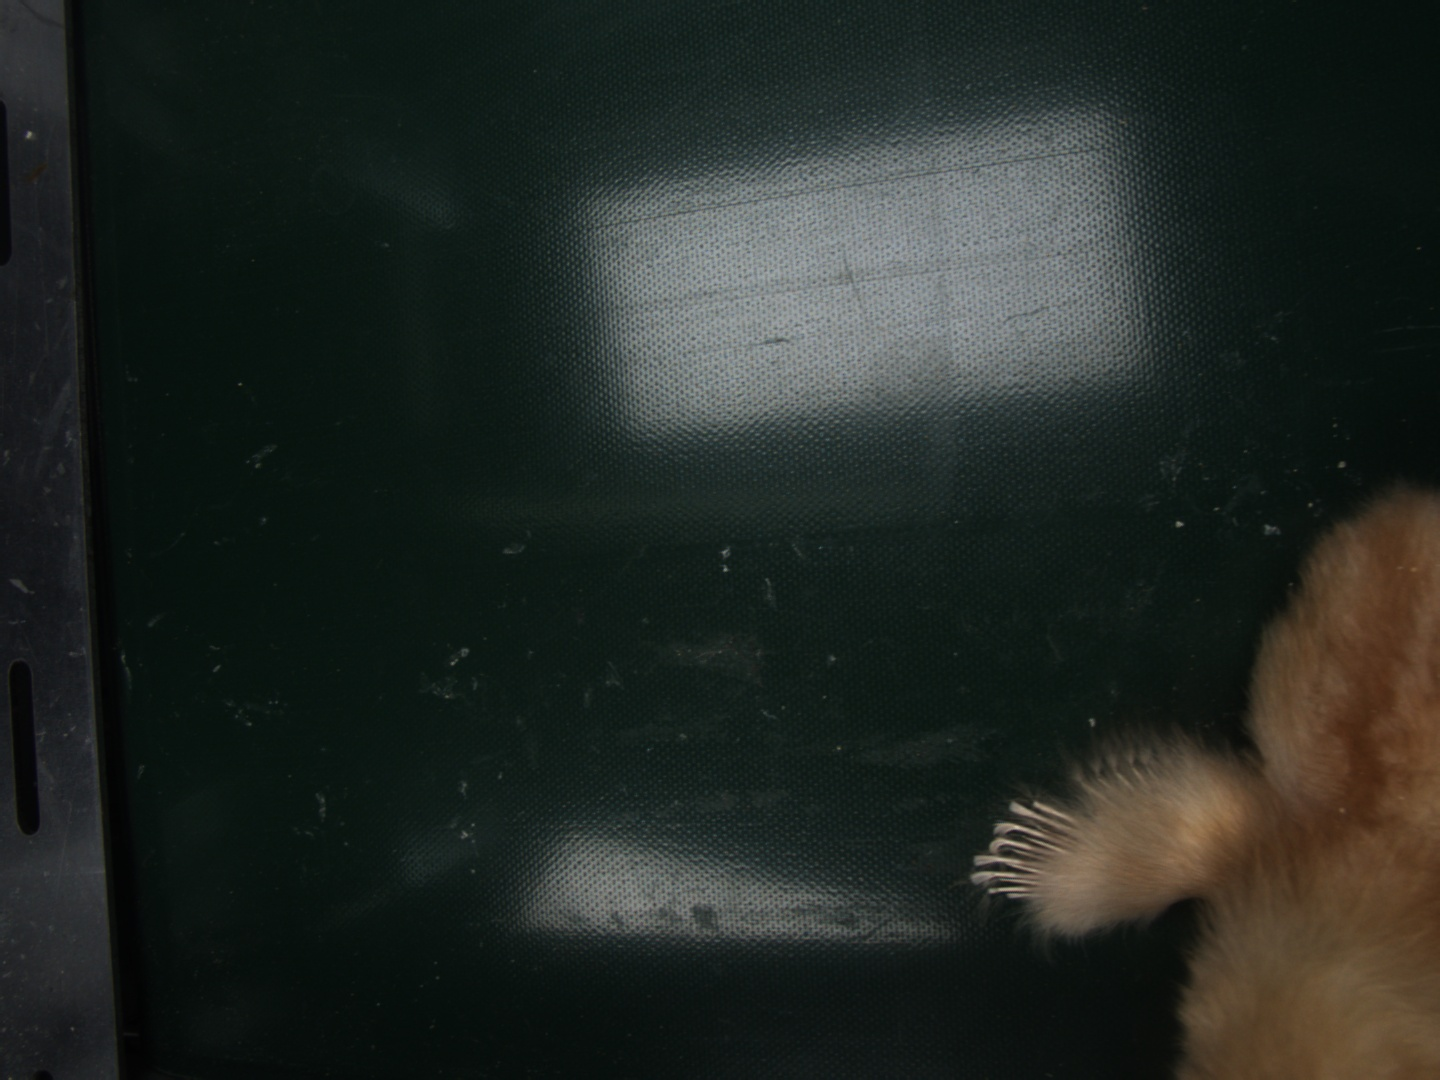female: (969, 798, 1086, 901)
